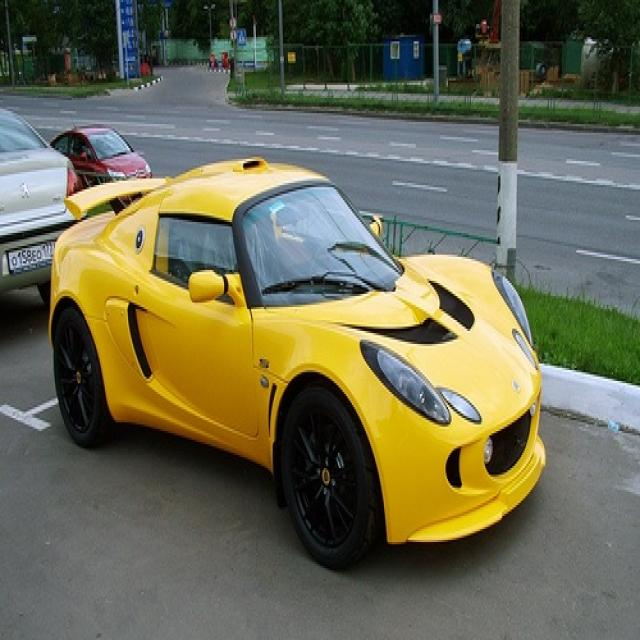car: (52, 152, 548, 568), (0, 93, 67, 304), (50, 120, 155, 187)
